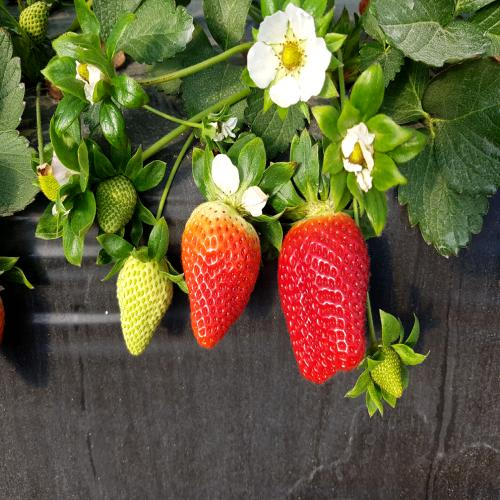ripe: (274, 208, 366, 392), (180, 192, 260, 353)
